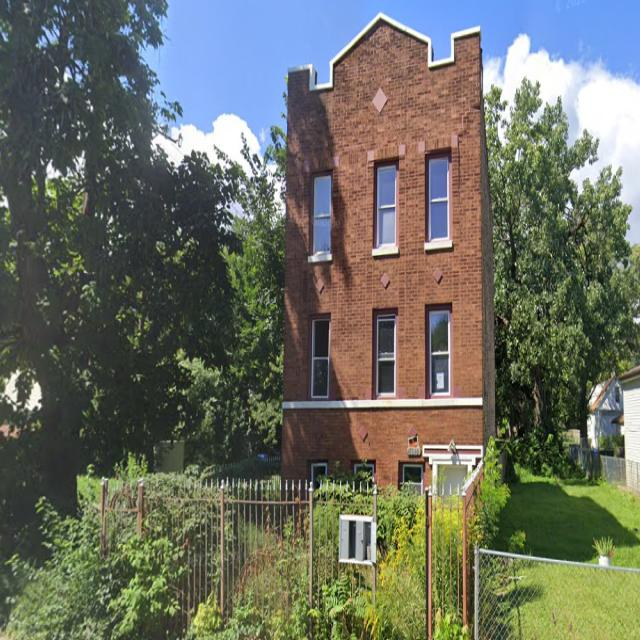House: (276, 9, 498, 550)
